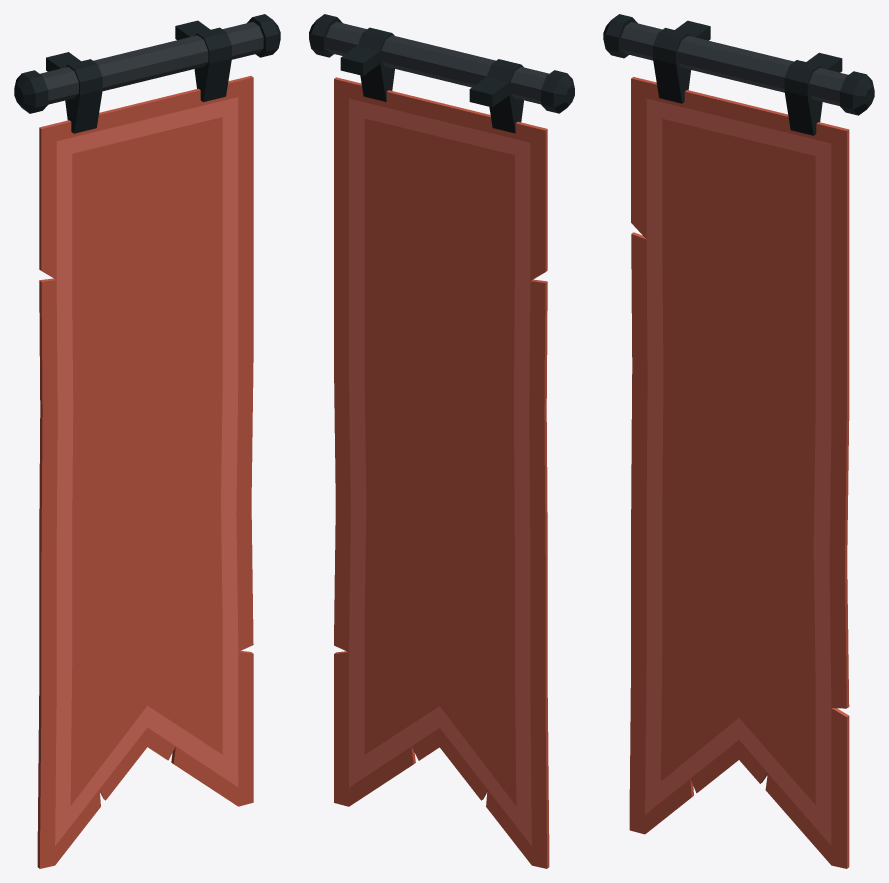
The model's file is Flag_01.fbx.
The picture shows the model from 3 angles, left to right: view 1: azimuth 30°, elevation 25°; view 2: azimuth 150°, elevation 25°; view 3: azimuth 330°, elevation 25°; orthographic projection.
Visible parts, largest first — view 1: Flag_01; view 2: Flag_01; view 3: Flag_01.
Part boxes in pixels (box(x1,y1,x2,y2)): Flag_01: box(14, 14, 280, 868); Flag_01: box(309, 14, 574, 868); Flag_01: box(603, 14, 874, 868).
Bounding box in the file's own units: 64.32 × 190 × 15.19.
